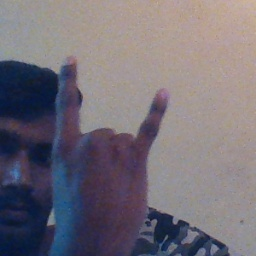V: (52, 53, 173, 245)
